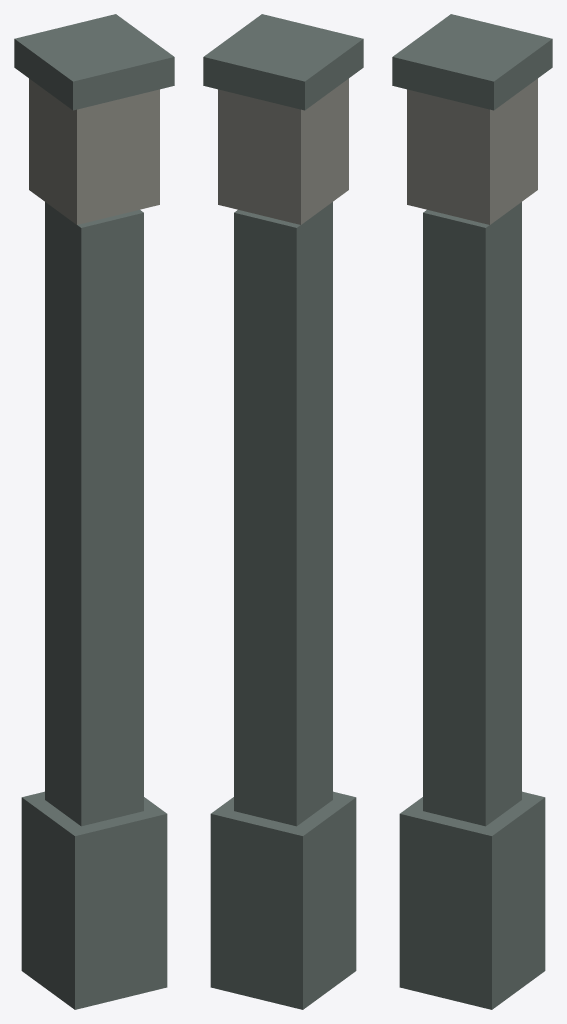
Rendered from SM_Farola_v0_LOD1.fbx.
The picture shows the model from 3 angles, left to right: view 1: azimuth 30°, elevation 25°; view 2: azimuth 150°, elevation 25°; view 3: azimuth 330°, elevation 25°; orthographic projection.
Parts seen in each view (by area): view 1: SM_urbano_v5_LOD1; view 2: SM_urbano_v5_LOD1; view 3: SM_urbano_v5_LOD1.
Boxes of the visible parts, x1,y1,x2,y2 form: SM_urbano_v5_LOD1: [14, 14, 174, 1009]; SM_urbano_v5_LOD1: [203, 14, 363, 1009]; SM_urbano_v5_LOD1: [392, 14, 552, 1009].
Bounding box in the file's own units: 0.55 × 4.82 × 0.55.
